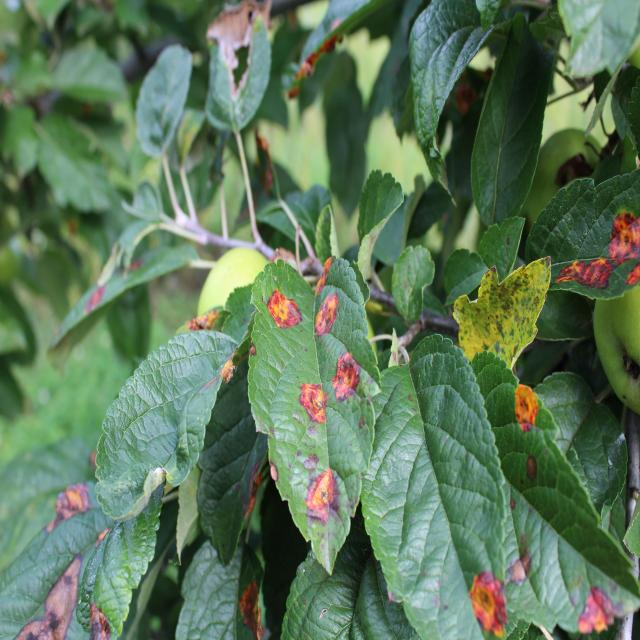rust: (466, 345, 640, 638), (361, 332, 512, 640), (247, 256, 383, 578), (525, 166, 640, 301)
